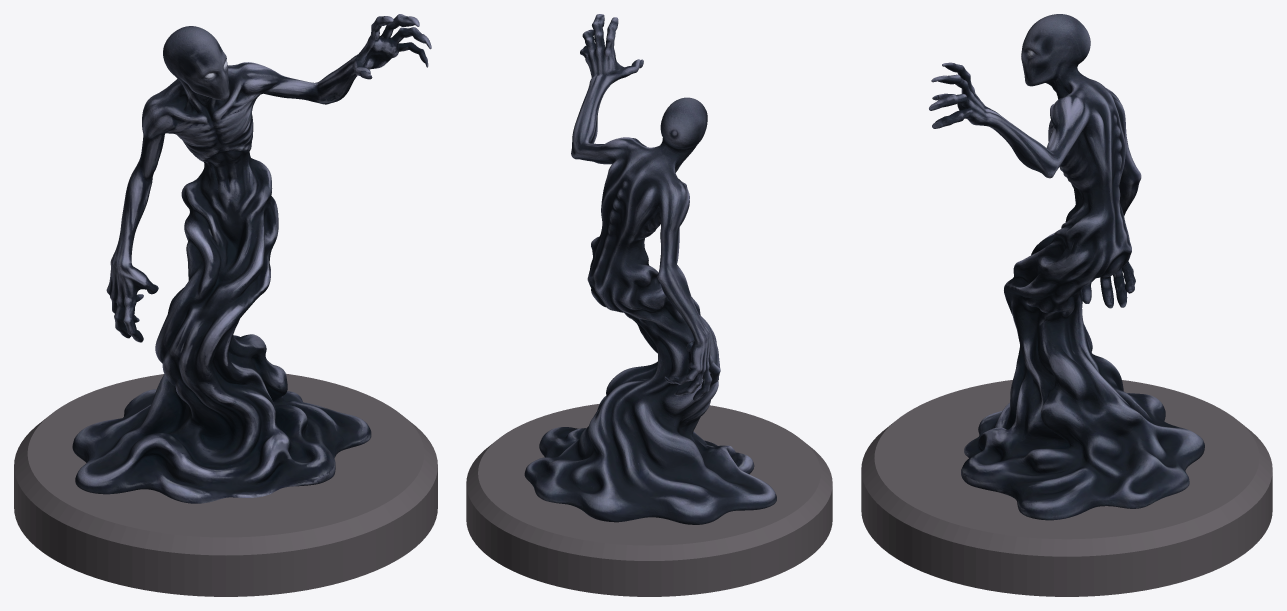
The model's file is shadow-d.glb.
The picture shows the model from 3 angles, left to right: view 1: azimuth 30°, elevation 25°; view 2: azimuth 150°, elevation 25°; view 3: azimuth 270°, elevation 25°; orthographic projection. The views are drawn at different scales.
Visible parts, largest first — view 1: figure, base; view 2: figure, base; view 3: figure, base.
Part boxes in pixels (x1,y1,x2,y2): figure: [72, 14, 431, 503]; base: [14, 373, 437, 596]; figure: [524, 14, 776, 524]; base: [466, 404, 832, 596]; figure: [929, 14, 1204, 520]; base: [861, 380, 1272, 596].
Bounding box in the file's own units: 25 × 33.2 × 25.
1 material, 1 textured.
